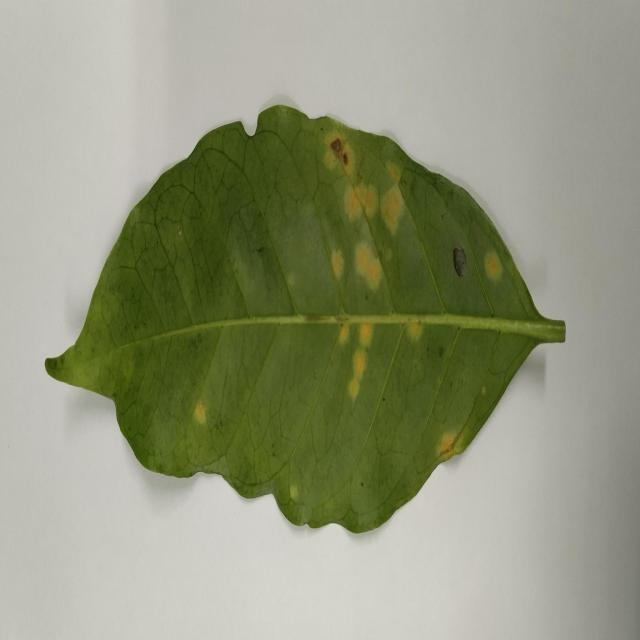rust: (344, 184, 406, 235), (340, 322, 372, 401), (320, 126, 362, 177), (352, 240, 385, 294), (437, 431, 463, 464), (188, 397, 211, 428), (483, 248, 503, 281), (330, 248, 346, 287)
